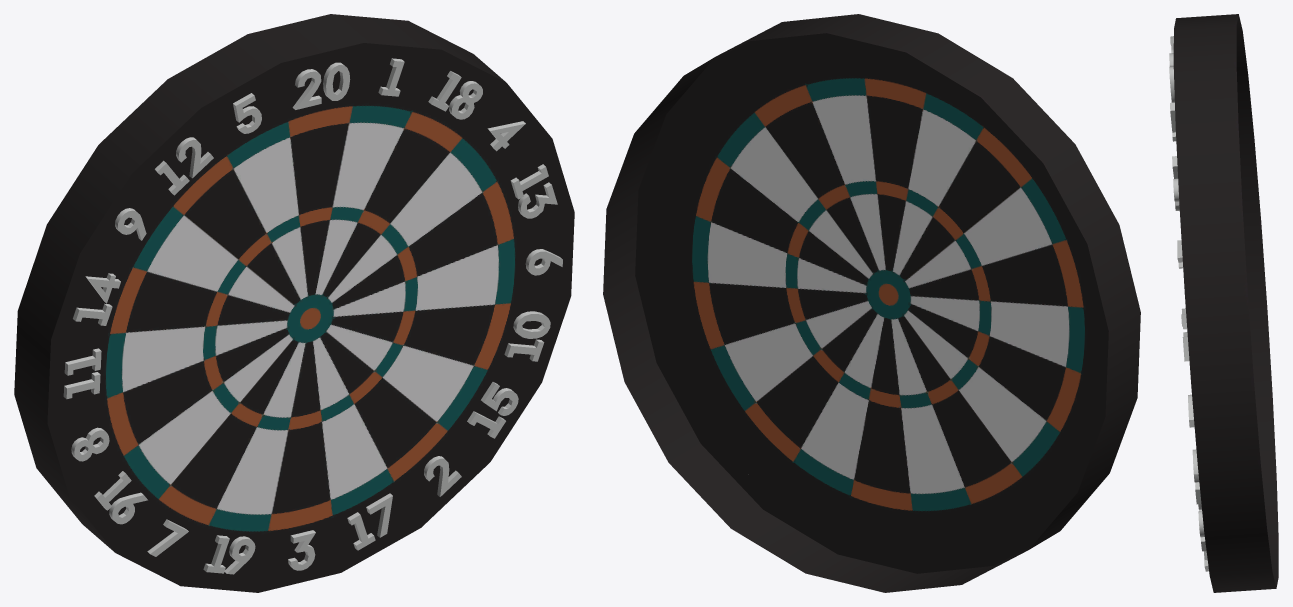
Rendered from dart board.glb.
3 views of the same model, side by side, from view 1: azimuth 30°, elevation 25°; view 2: azimuth 150°, elevation 25°; view 3: azimuth 270°, elevation 25° (orthographic). The views are drawn at different scales.
Parts seen in each view (by area): view 1: Dartboard_LOD0; view 2: Dartboard_LOD0; view 3: Dartboard_LOD0.
Part boxes in pixels (<box>): Dartboard_LOD0: <box>14,14,574,592</box>; Dartboard_LOD0: <box>603,14,1140,592</box>; Dartboard_LOD0: <box>1169,14,1278,592</box>.
Size of the model in its own units: 0.8014 by 0.8057 by 0.154.
1 material, 1 textured.
